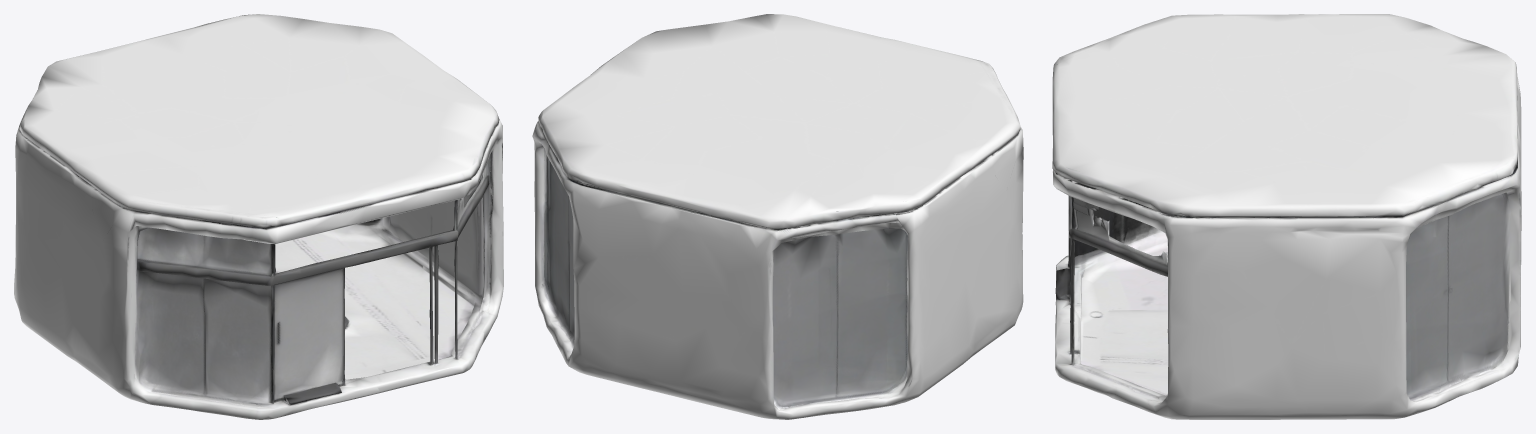
File: VR‑ready_architectu_0417101746_texture.glb
3 renders of one model, left to right at view 1: azimuth 30°, elevation 25°; view 2: azimuth 150°, elevation 25°; view 3: azimuth 270°, elevation 25°, orthographic. The views are drawn at different scales.
Bounding box in the file's own units: 2 × 1.02 × 1.99.
Materials: 1 (1 with a texture image).
